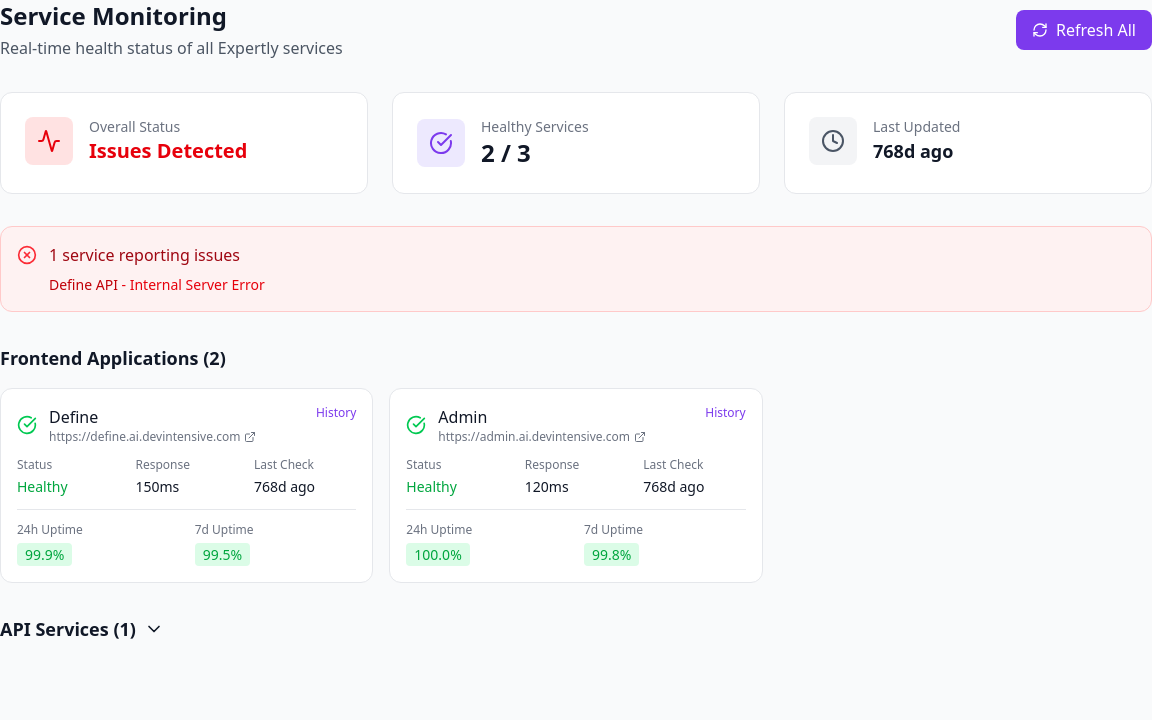
Test: Monitoring › opens history panel when history button is clicked
Check: the heading "Define" is shown, box [49, 406, 98, 428]
Step 1. Click the 1st button "History" → (336, 413), box [316, 405, 356, 421]
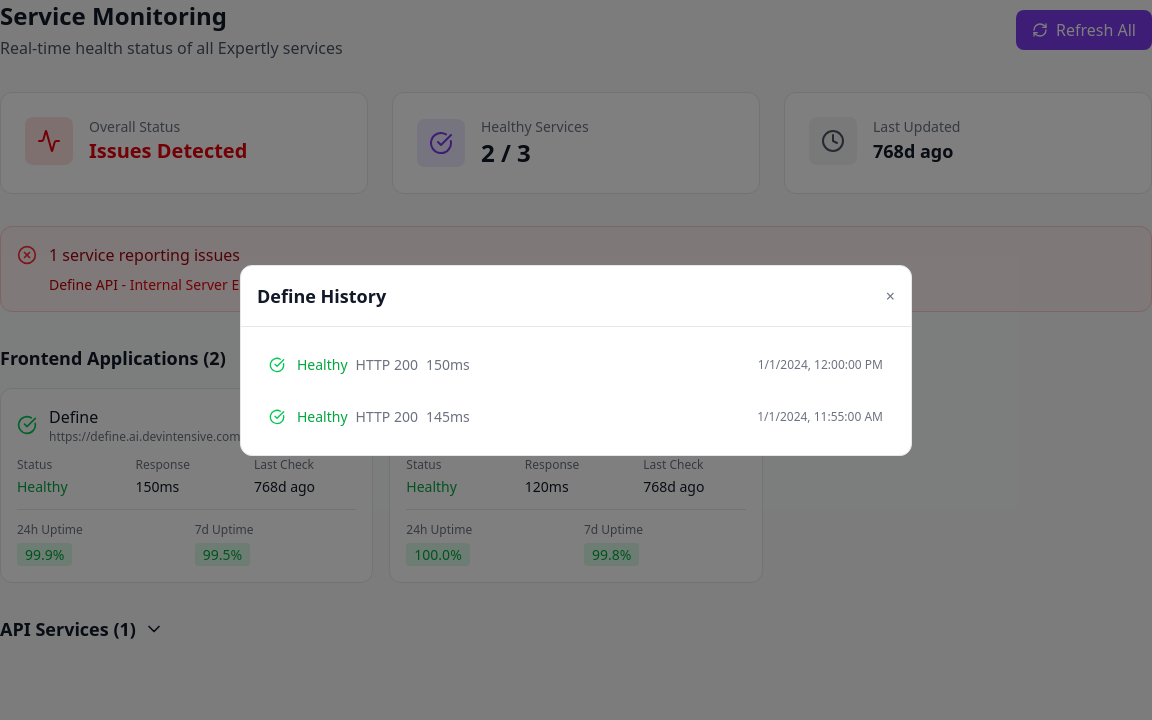
Check: the heading "Define History" is shown, box [257, 282, 386, 310]
